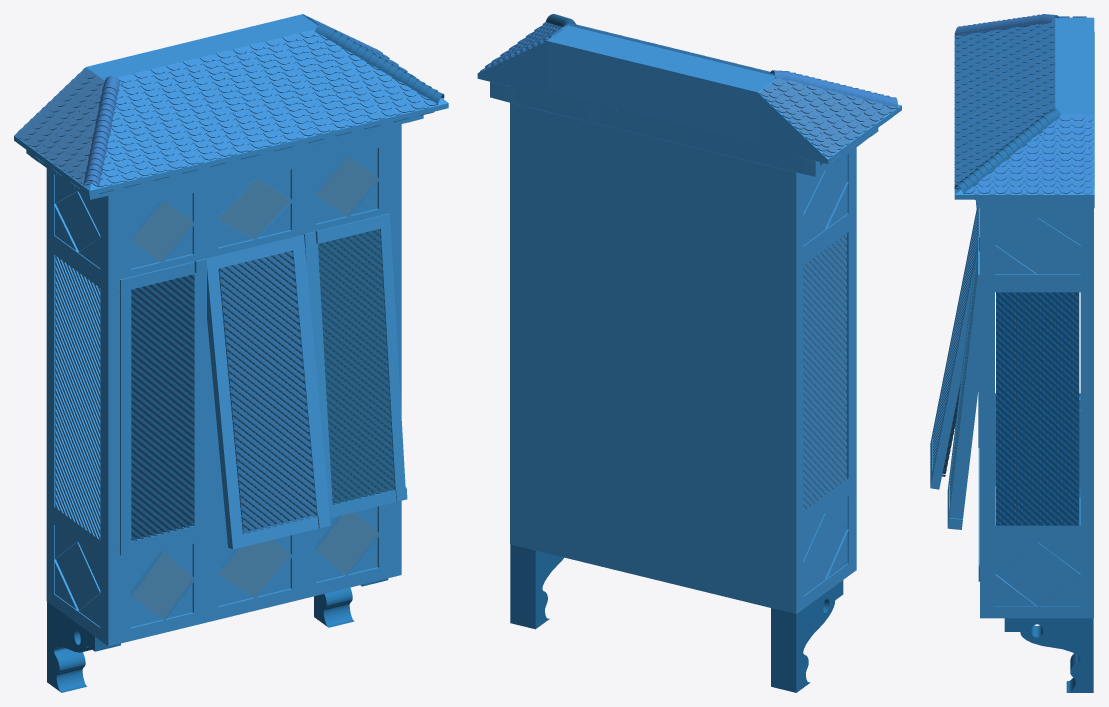
The model's file is rs_mashrabiya.glb.
3 renders of one model, left to right at view 1: azimuth 30°, elevation 25°; view 2: azimuth 150°, elevation 25°; view 3: azimuth 270°, elevation 25°, orthographic. The views are drawn at different scales.
Visible parts, largest first — view 1: Cube.613_15, Cube.002_16, Cube.793_0, Cube.618_13, Cube.622_9, Cube.619_12, Cube.001_17, Cube.617_14, Cube.620_11, Cube.003_18, Cube.626_6, Cube.686_4 (+4 smaller); view 2: Cube.613_15, Cube.626_6, Cube.622_9, Cube.686_4, Cube.703_1, Cube.621_10, Cube.004_19, Cube.688_3, Cube.690_2, Cube.793_0; view 3: Cube.613_15, Cube.624_7, Cube.793_0, Cube.623_8, Cube.690_2, Cube.626_6, Cube.002_16, Cube.003_18, Cube.004_19, Cube.666_5, Cube.688_3, Cube.618_13.
Boxes of the visible parts, box(x1,y1,x2,y2) form: Cube.613_15: box(14, 103, 448, 646); Cube.002_16: box(206, 235, 330, 549); Cube.793_0: box(92, 29, 436, 186); Cube.618_13: box(318, 229, 394, 504); Cube.622_9: box(55, 255, 100, 539); Cube.619_12: box(118, 274, 194, 540); Cube.001_17: box(120, 258, 206, 555); Cube.617_14: box(318, 229, 394, 503); Cube.620_11: box(131, 275, 193, 540); Cube.003_18: box(304, 213, 407, 517); Cube.626_6: box(14, 14, 448, 190); Cube.686_4: box(16, 68, 104, 185); Cube.613_15: box(477, 74, 901, 614); Cube.626_6: box(477, 25, 900, 159); Cube.622_9: box(803, 233, 846, 510); Cube.686_4: box(759, 77, 895, 156); Cube.703_1: box(771, 580, 843, 692); Cube.621_10: box(803, 235, 845, 508); Cube.004_19: box(510, 544, 563, 629); Cube.688_3: box(770, 70, 897, 108); Cube.690_2: box(480, 21, 569, 71); Cube.793_0: box(566, 23, 774, 75); Cube.613_15: box(954, 195, 1094, 618); Cube.624_7: box(996, 292, 1078, 525); Cube.793_0: box(954, 17, 1055, 189); Cube.623_8: box(996, 292, 1079, 525); Cube.690_2: box(965, 114, 1093, 194); Cube.626_6: box(954, 18, 1094, 194); Cube.002_16: box(930, 208, 978, 489); Cube.003_18: box(947, 236, 979, 529); Cube.004_19: box(1004, 618, 1093, 692); Cube.666_5: box(954, 108, 1060, 194); Cube.688_3: box(955, 14, 1059, 35); Cube.618_13: box(950, 263, 976, 503).
Bounding box in the file's own units: 9.08 × 14.69 × 3.87.
